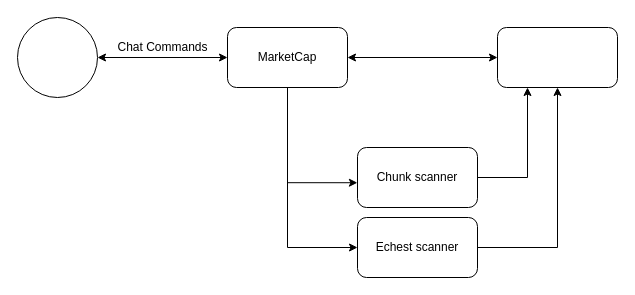
The diagram is 635 pixels wide and 295 high, and some of its shapes have lost their labels. Each missing label, with the box of its shape:
Client: (16, 16, 98, 98)
Redis: (496, 26, 618, 88)
